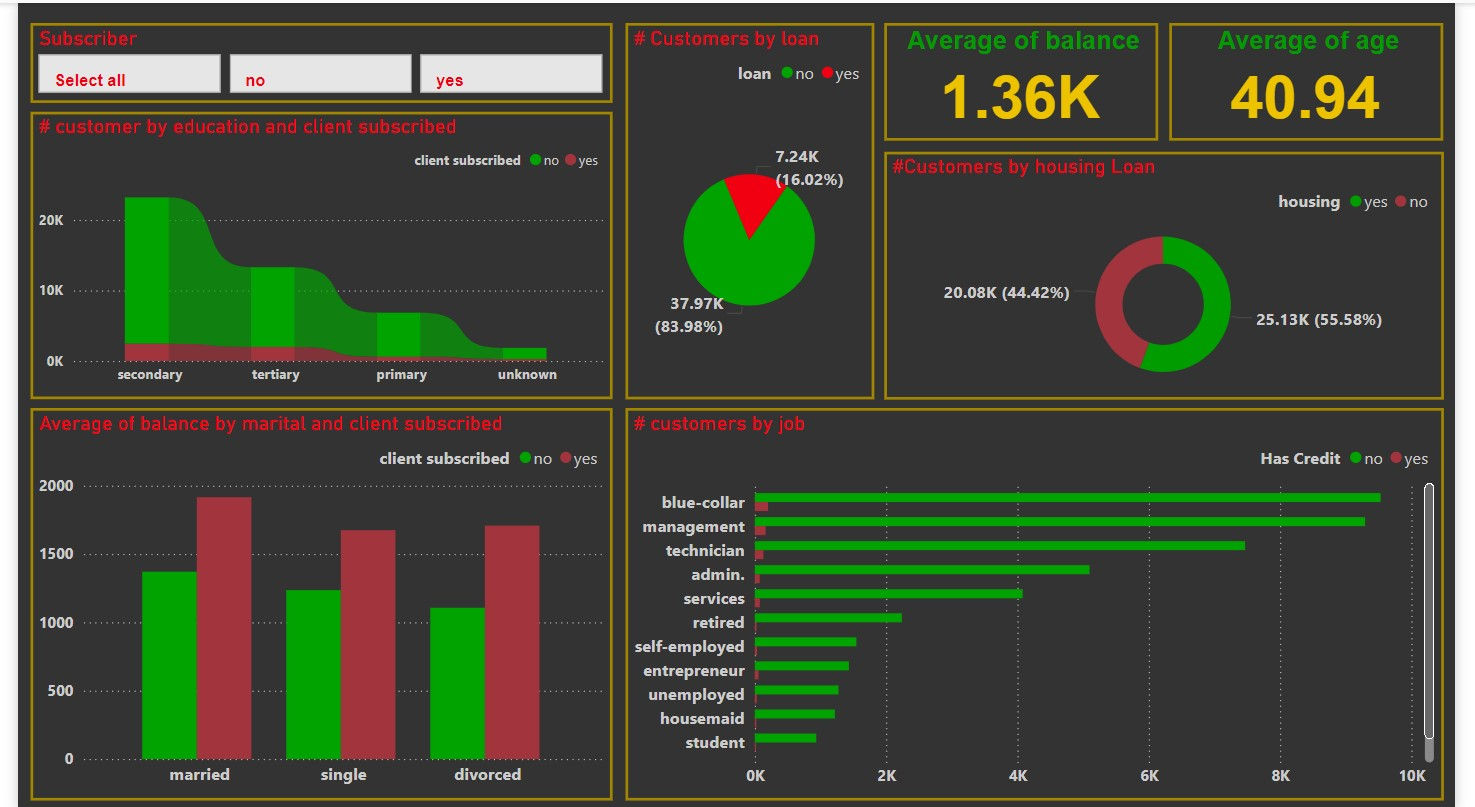

This screenshot's page, from the dashboard's own definition file:
{"tool":"powerbi","page":{"name":"Further Analysis","canvas":[1280,720],"ordinal":2},"visuals":[{"type":"card","title":"Average of age","fields":{"Values":["Banking data.age"]},"box":[1025.5,18.1,243.7,105],"z":0},{"type":"clusteredColumnChart","fields":{"Category":["Banking data.marital"],"Y":["Banking data.balance"],"Series":["Banking data.y"]},"box":[10.9,360.7,518.8,349.9],"z":1000},{"type":"ribbonChart","fields":{"Category":["Banking data.education"],"Y":["Banking data.y"],"Series":["Banking data.y"]},"box":[10.9,96.5,518.8,255.8],"z":2000},{"type":"clusteredBarChart","title":"# customers by job","fields":{"Category":["Banking data.job"],"Y":["Banking data.job"],"Series":["Banking data.default"]},"box":[540.5,360.7,728.7,349.9],"z":3000},{"type":"card","title":"Average of balance","fields":{"Values":["Banking data.balance"]},"box":[770.9,18.1,243.7,105],"z":4000},{"type":"donutChart","title":"#Customers by housing Loan","fields":{"Category":["Banking data.housing"],"Y":["Banking data.housing"]},"box":[770.9,132.7,498.3,220.8],"z":5000},{"type":"pieChart","title":"# Customers by loan","fields":{"Category":["Banking data.loan"],"Y":["Banking data.loan"]},"box":[540.5,18.1,222,335.4],"z":6000},{"type":"advancedSlicerVisual","title":"Subscriber","fields":{"Values":["Banking data.y"]},"box":[10.9,18.1,518.8,71.2],"z":7000}]}

Visuals, with their boxes in screenshot pixels (x1, y1, x2, y2), scaled from the page's 1280x720 canvas onto the 1475x807 screenshot:
"Average of age" card: bbox=[1182, 20, 1463, 138]
clusteredColumnChart - Banking data.marital x Banking data.balance: bbox=[13, 404, 610, 796]
ribbonChart - Banking data.education x Banking data.y: bbox=[13, 108, 610, 395]
"# customers by job" clusteredBarChart: bbox=[623, 404, 1463, 796]
"Average of balance" card: bbox=[888, 20, 1169, 138]
"#Customers by housing Loan" donutChart: bbox=[888, 149, 1463, 396]
"# Customers by loan" pieChart: bbox=[623, 20, 879, 396]
"Subscriber" advancedSlicerVisual: bbox=[13, 20, 610, 100]
